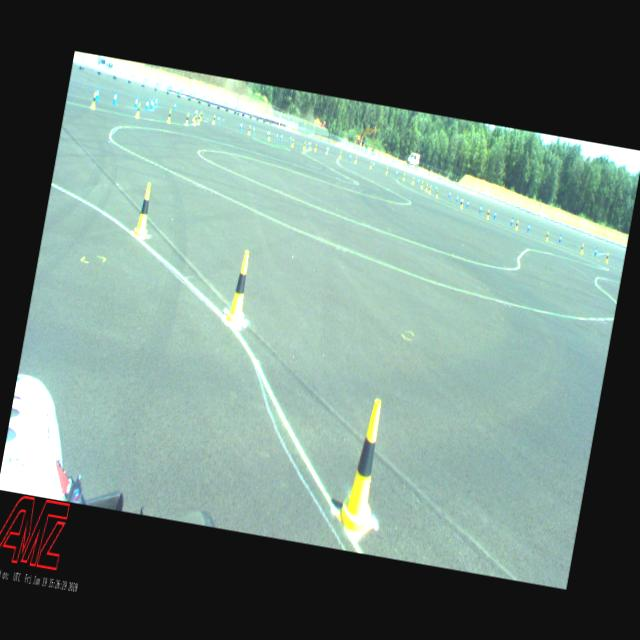blue_cone: (112, 91, 118, 104), (95, 86, 100, 100), (134, 96, 138, 108), (145, 98, 149, 109), (150, 98, 154, 109), (154, 96, 158, 105), (558, 234, 562, 242), (527, 222, 530, 232), (510, 216, 513, 225), (594, 247, 597, 255), (466, 199, 469, 207), (252, 125, 255, 133), (173, 102, 176, 110), (493, 210, 496, 218), (434, 184, 437, 192), (448, 190, 451, 198), (280, 132, 283, 140), (307, 140, 310, 148), (479, 205, 482, 212), (266, 130, 269, 137), (217, 115, 220, 122), (150, 98, 152, 108), (240, 122, 242, 130), (460, 196, 462, 204), (196, 108, 198, 116), (349, 153, 351, 160), (289, 134, 291, 141), (456, 194, 458, 201), (396, 170, 398, 176), (416, 178, 418, 184), (276, 132, 278, 138), (327, 146, 329, 152), (372, 161, 374, 167)
yellow_cone: (332, 396, 394, 542), (226, 250, 254, 324), (132, 180, 156, 237), (90, 92, 96, 109), (166, 110, 172, 122), (184, 113, 190, 125), (136, 102, 140, 116), (544, 230, 548, 240), (514, 220, 518, 230), (193, 114, 197, 124), (604, 253, 608, 262), (580, 244, 584, 252), (247, 126, 251, 134), (424, 184, 428, 192), (302, 141, 306, 149), (308, 142, 312, 150), (193, 110, 196, 120), (197, 114, 200, 124), (212, 115, 215, 124), (460, 199, 463, 208), (199, 111, 202, 120), (486, 210, 489, 218), (291, 138, 294, 146), (420, 180, 423, 188), (428, 185, 431, 193), (411, 177, 414, 184), (402, 173, 405, 180), (369, 162, 372, 168), (314, 144, 317, 150), (268, 132, 270, 140), (436, 190, 438, 198), (326, 146, 328, 154), (339, 151, 341, 158), (354, 156, 356, 162), (386, 167, 388, 173)
